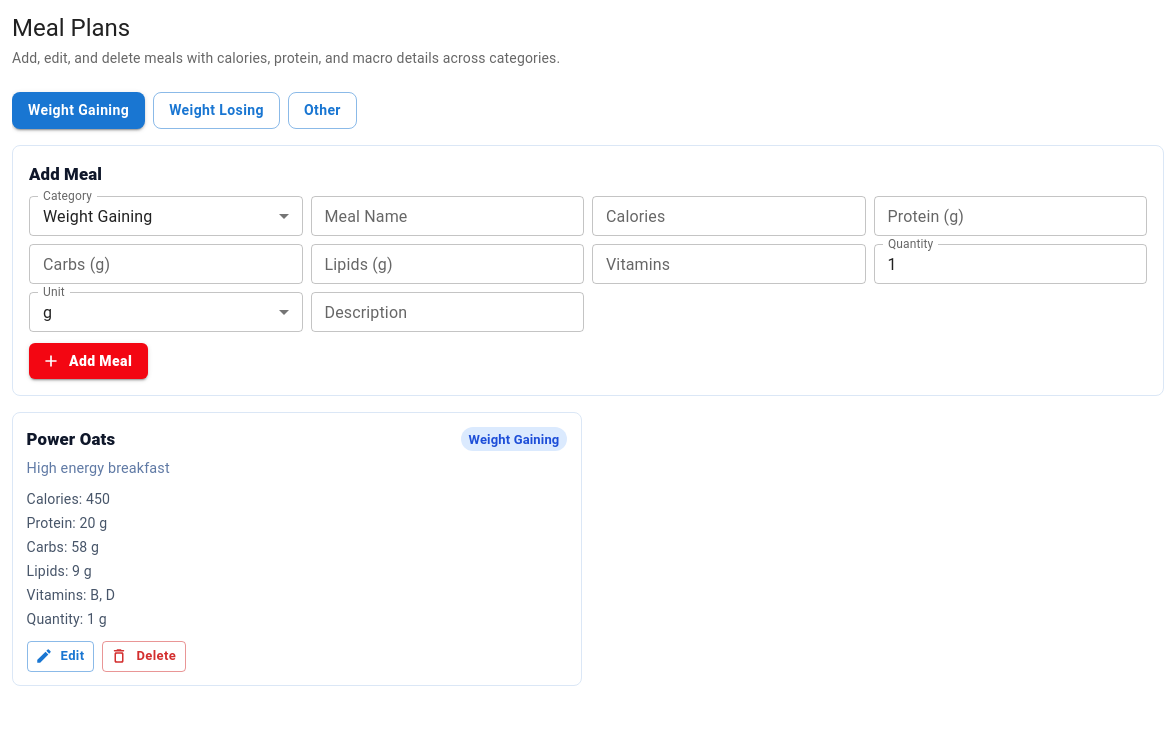
Test case: DietitianMealPlans › shows validation warning when required add form fields are missing
What coordinates should you click on to do the following:
click the button "Add Meal"
I would click on:
 (89, 361)
Its box is [29,343,148,379].
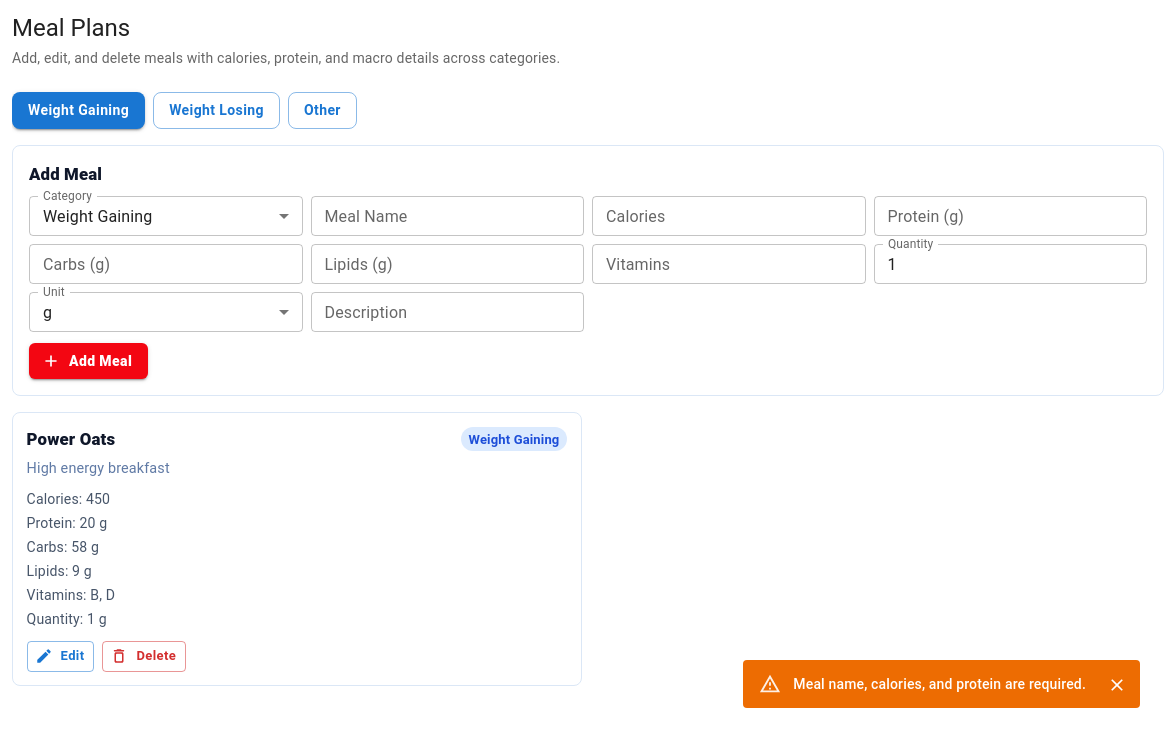
Expected: the text "Meal name, calories, and protein are required." is shown, [793,676,1086,692]
